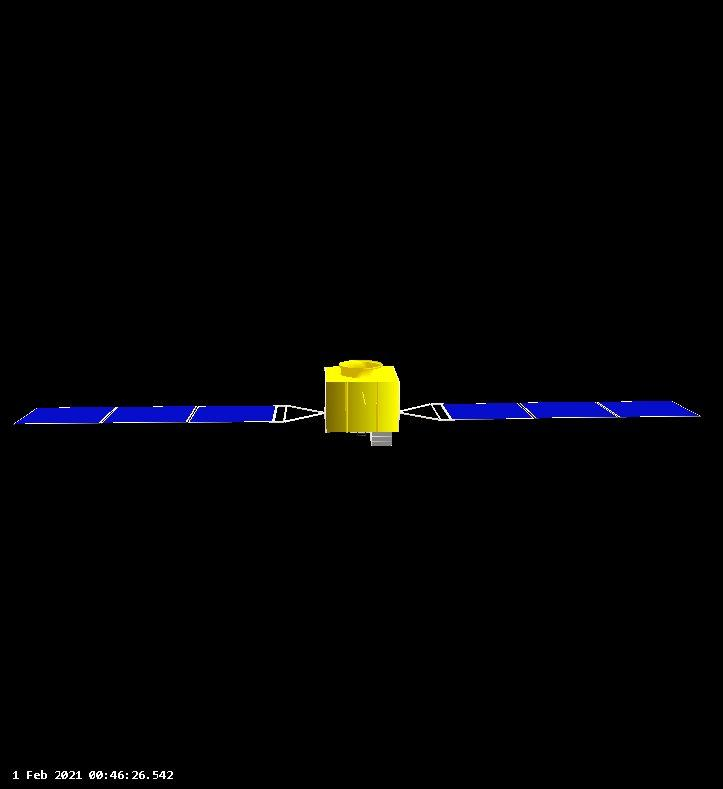body: (323, 362, 402, 436), (338, 358, 386, 381)
solar: (13, 402, 328, 429), (400, 398, 706, 424)
